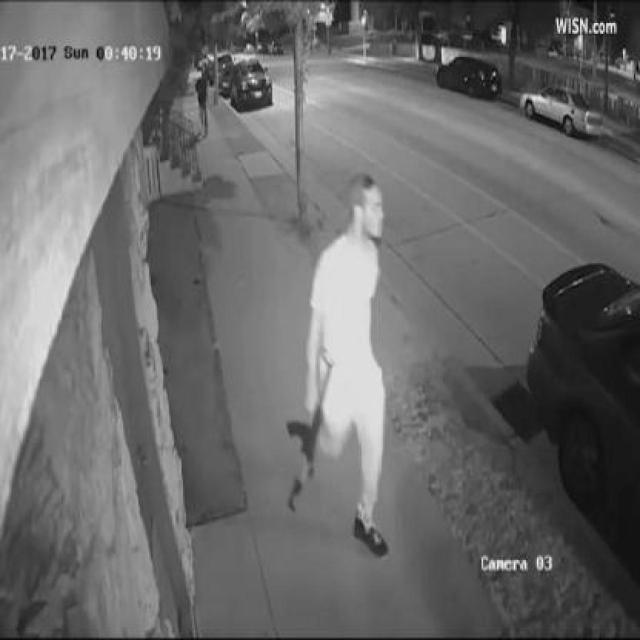weapon: (284, 396, 324, 517)
